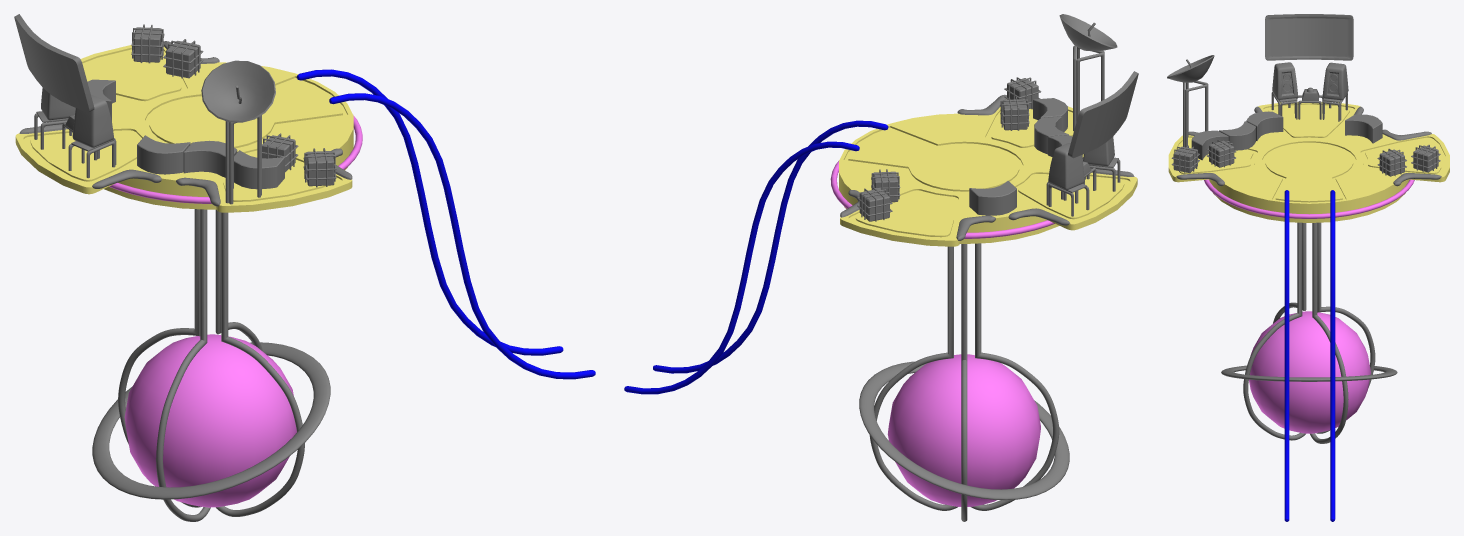
Rendered from M_MapHub 1.fbx.
3 renders of one model, left to right at view 1: azimuth 30°, elevation 25°; view 2: azimuth 150°, elevation 25°; view 3: azimuth 270°, elevation 25°, orthographic. The views are drawn at different scales.
Visible parts, largest first — view 1: M_MetalHub, M_SlimeHub, M_ObjetsHub, M_ChromeHub, M_RidesHub; view 2: M_MetalHub, M_SlimeHub, M_ObjetsHub, M_ChromeHub, M_RidesHub; view 3: M_MetalHub, M_ObjetsHub, M_SlimeHub, M_ChromeHub, M_RidesHub.
Part boxes in pixels (bbox=[...]): M_MetalHub: bbox=[15, 45, 353, 212]; M_SlimeHub: bbox=[109, 115, 362, 507]; M_ObjetsHub: bbox=[14, 14, 336, 204]; M_ChromeHub: bbox=[19, 41, 352, 521]; M_RidesHub: bbox=[297, 69, 595, 379]; M_MetalHub: bbox=[839, 106, 1137, 246]; M_SlimeHub: bbox=[830, 161, 1054, 506]; M_ObjetsHub: bbox=[857, 14, 1138, 221]; M_ChromeHub: bbox=[840, 94, 1134, 521]; M_RidesHub: bbox=[624, 120, 888, 394]; M_MetalHub: bbox=[1168, 102, 1449, 222]; M_ObjetsHub: bbox=[1167, 14, 1440, 176]; M_SlimeHub: bbox=[1204, 179, 1414, 433]; M_ChromeHub: bbox=[1176, 106, 1441, 443]; M_RidesHub: bbox=[1284, 190, 1335, 521].
Bounding box in the file's own units: 4451 × 4039 × 2839.
